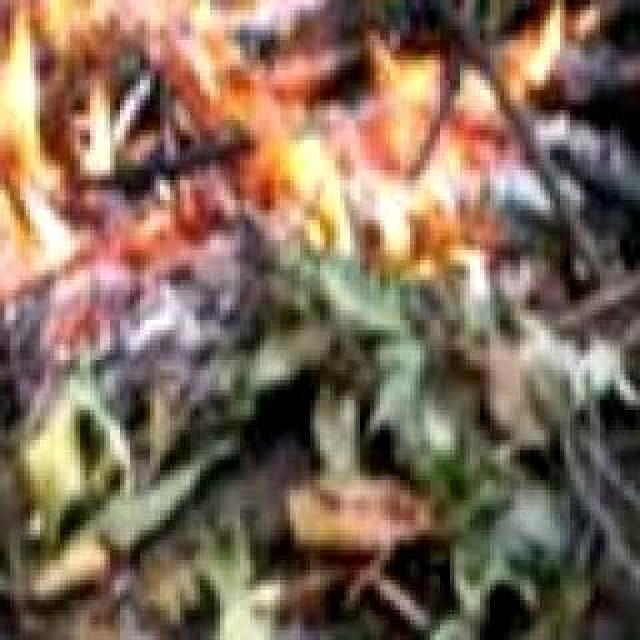fire: (0, 0, 536, 280)
